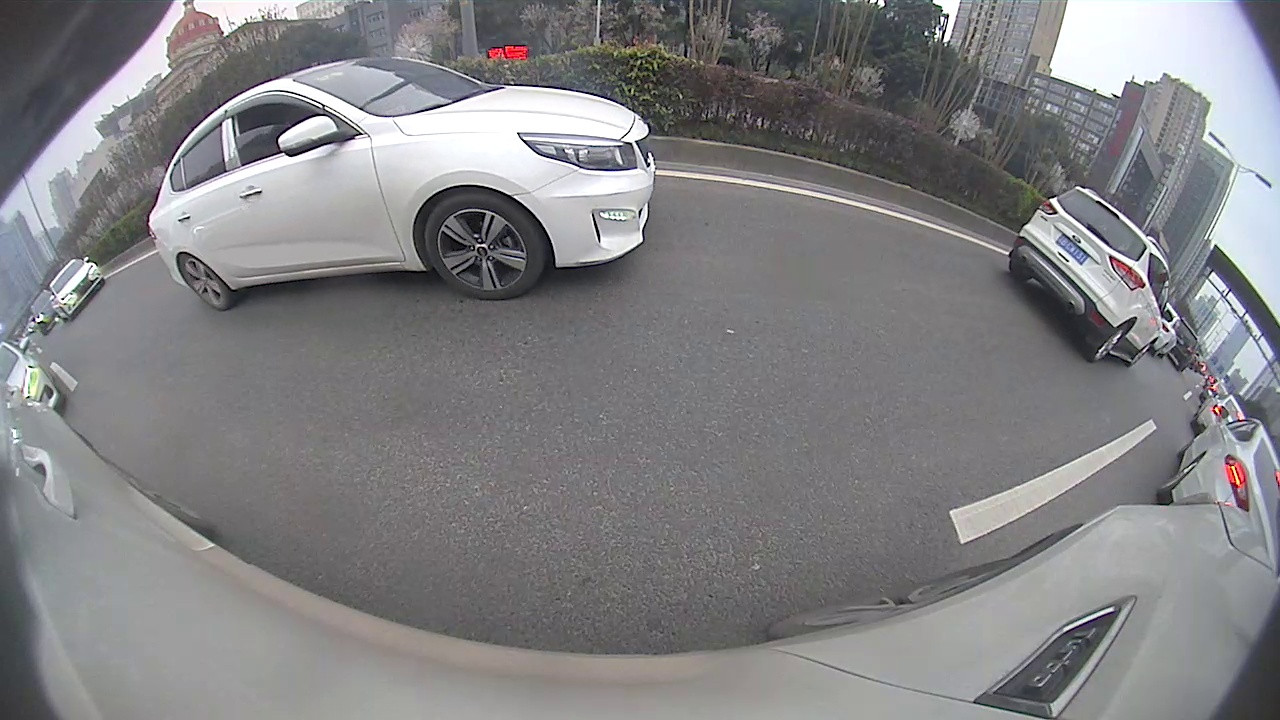car: (147, 55, 660, 315), (1008, 184, 1176, 368), (1157, 401, 1278, 544), (47, 255, 106, 323)
front: (425, 191, 547, 302), (1130, 344, 1155, 368)
rear: (178, 252, 232, 312), (1091, 320, 1132, 364)
